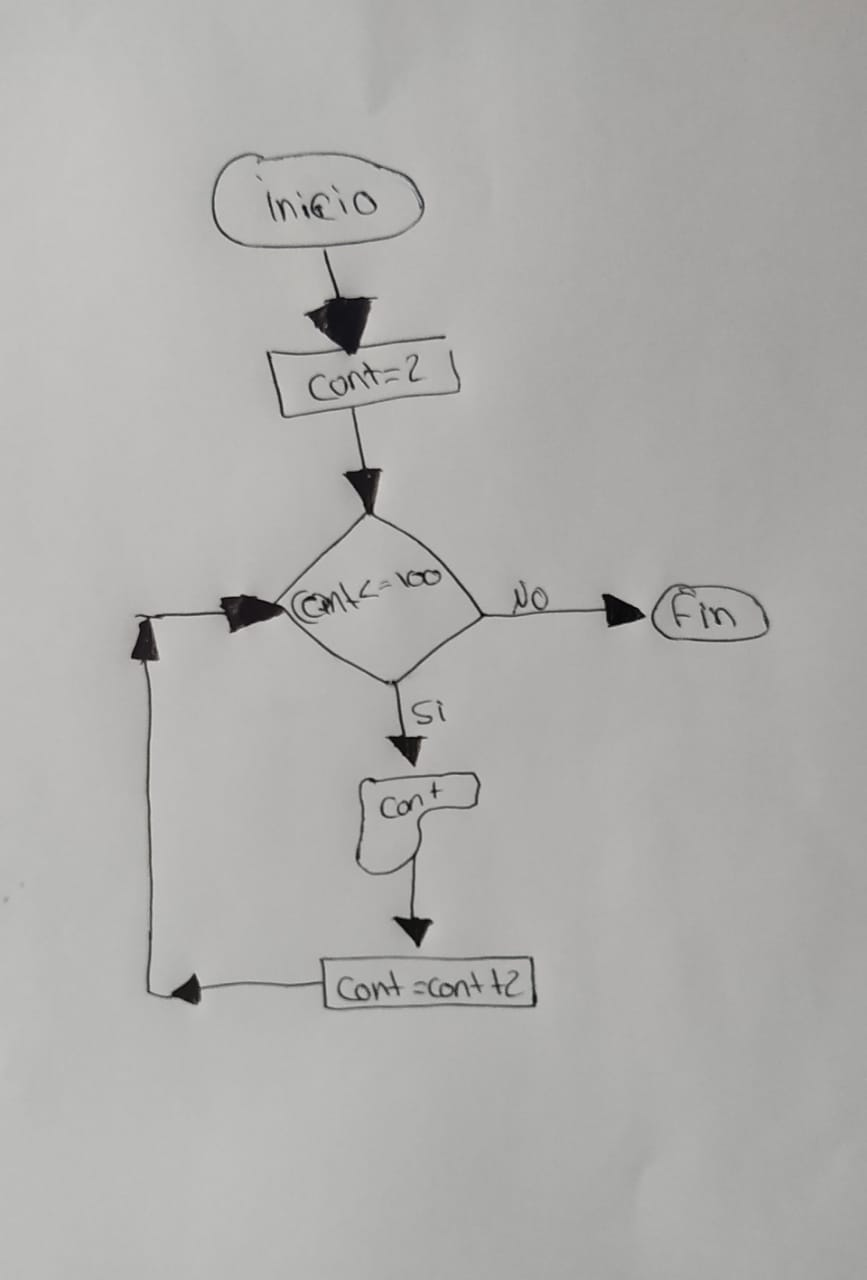arrow_line_down: (302, 248, 379, 358), (335, 404, 386, 517), (379, 682, 429, 772), (393, 853, 432, 954)
arrow_line_left: (162, 969, 324, 1008)
arrow_line_right: (481, 583, 648, 631), (129, 594, 286, 636)
arrow_line_up: (128, 619, 167, 1003)
decision: (278, 511, 486, 690)
print: (351, 767, 486, 875)
process: (256, 334, 481, 419), (313, 950, 545, 1019)
start_end: (207, 147, 428, 250), (650, 576, 776, 650)
